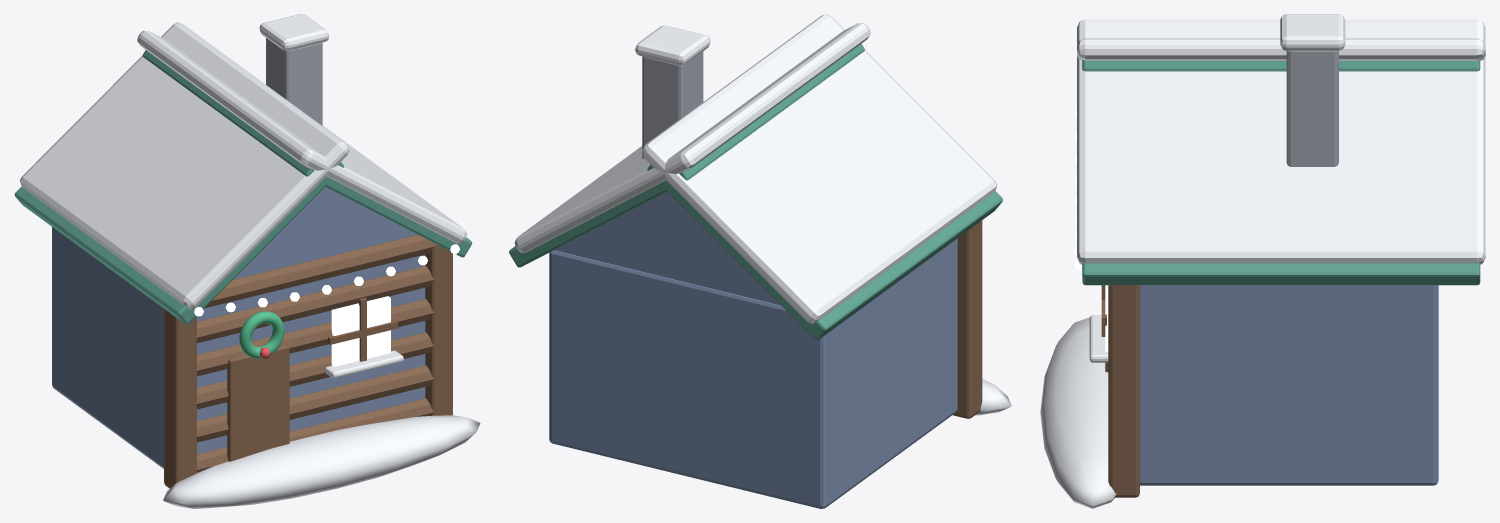
File: house_b.glb
3 views of the same model, side by side, from view 1: azimuth 30°, elevation 25°; view 2: azimuth 150°, elevation 25°; view 3: azimuth 270°, elevation 25° (orthographic). The views are drawn at different scales.
Visible parts, largest first — view 1: house_b_mesh; view 2: house_b_mesh; view 3: house_b_mesh.
Boxes of the visible parts, <box> form: house_b_mesh: <box>14,14,480,508</box>; house_b_mesh: <box>509,14,1011,508</box>; house_b_mesh: <box>1040,14,1485,508</box>.
Bounding box in the file's own units: 4.22 × 4.76 × 4.25.
